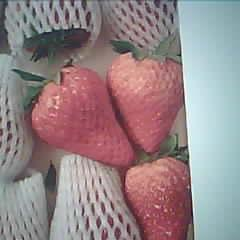straw-ripe: (32, 68, 133, 166), (109, 49, 185, 152), (126, 159, 191, 240)
